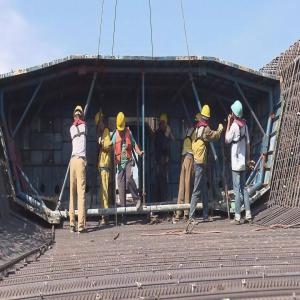blue: (232, 100, 243, 121)
yellow: (117, 113, 127, 135), (202, 104, 211, 124), (74, 106, 84, 122), (96, 113, 105, 130), (161, 114, 169, 132), (195, 113, 203, 128)
